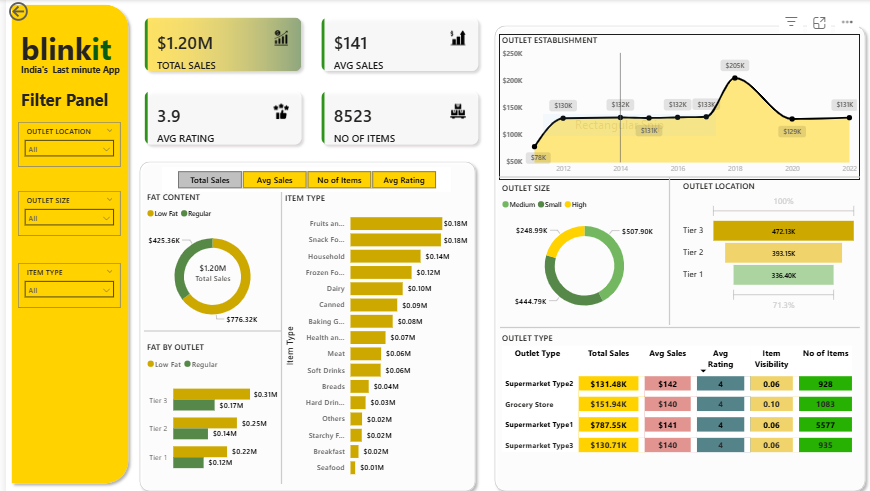

This screenshot's page, from the dashboard's own definition file:
{"tool":"powerbi","page":{"name":"Page 1","canvas":[1400,800],"ordinal":0},"visuals":[{"type":"shape","box":[0,0,205.6,787.1],"z":0},{"type":"textbox","box":[19.3,99.6,186.3,38.6],"z":1000},{"type":"textbox","box":[19.3,41.8,165.5,77.1],"z":2000},{"type":"actionButton","box":[0,0,100,40],"z":3000},{"type":"cardVisual","fields":{"Data":["Blinkit.Total Sales","Blinkit.Avg Sales","Blinkit.Avg Rating","Blinkit.No of Items"]},"box":[205.6,12.9,570.3,239.4],"z":4000},{"type":"shape","box":[205.6,252.2,557.4,547.8],"z":5000},{"type":"donutChart","title":"FAT CONTENT","fields":{"Y":["Blinkit.Total Sales"],"Category":["Blinkit.Item Fat Content"]},"box":[221.7,308.4,220.1,230],"z":6000},{"type":"slicer","fields":{"Values":["Metrics.Metrics"]},"box":[250.6,269.9,464.3,40.2],"z":7000},{"type":"cardVisual","fields":{"Data":["Blinkit.Total Sales"]},"box":[257,400,151,78.7],"z":8000},{"type":"clusteredBarChart","title":"FAT BY OUTLET","fields":{"Y":["Blinkit.Total Sales"],"Category":["Blinkit.Outlet Location Type"],"Series":["Blinkit.Item Fat Content"]},"box":[221.7,549.4,220.1,229.7],"z":9000},{"type":"shape","box":[221.7,523.7,220.1,19.3],"z":10000},{"type":"shape","box":[420.9,310,43.4,469.1],"z":11000},{"type":"barChart","title":"ITEM TYPE","fields":{"Y":["Blinkit.Total Sales"],"Category":["Blinkit.Item Type"]},"box":[443.4,310,303.6,469.1],"z":12000},{"type":"shape","box":[775.9,33.7,613.7,766.3],"z":13000},{"type":"lineChart","title":"OUTLET ESTABLISHMENT","fields":{"Category":["Blinkit.Outlet Establishment Year"],"Y":["Blinkit.Total Sales"]},"box":[792,56.2,579.9,234.5],"z":14000},{"type":"shape","box":[792,281.1,579.9,9.6],"z":15000},{"type":"donutChart","title":"OUTLET SIZE","fields":{"Y":["Blinkit.Total Sales"],"Category":["Blinkit.Outlet Size"]},"box":[792,294,274.7,224.9],"z":16000},{"type":"funnel","title":"OUTLET  LOCATION","fields":{"Y":["Sum(Blinkit.Sales)"],"Category":["Blinkit.Outlet Location Type"]},"box":[1082.7,290.8,289.2,216.9],"z":17000},{"type":"shape","box":[997.6,285.9,136.5,237.8],"z":18000},{"type":"shape","box":[793.6,517.3,578.3,20.9],"z":19000},{"type":"pivotTable","title":"OUTLET TYPE","fields":{"Rows":["Blinkit.Outlet Type"],"Values":["Blinkit.Total Sales","Blinkit.Avg Sales","Blinkit.Avg Rating","Avg(Blinkit.Item Visibility)","Blinkit.No of Items"]},"box":[792,534.9,579.9,244.2],"z":20000},{"type":"slicer","fields":{"Values":["Blinkit.Outlet Location Type"]},"box":[19.3,197.6,165.5,72.3],"z":21000},{"type":"slicer","fields":{"Values":["Blinkit.Outlet Size"]},"box":[19.3,308.4,165.5,72.3],"z":22000},{"type":"slicer","fields":{"Values":["Blinkit.Item Type"]},"box":[19.3,424.1,165.5,72.3],"z":23000},{"type":"textbox","box":[19.3,138.2,165.5,49.8],"z":24000}]}

Visuals, with their boxes on the page's 1400x800 design canvas (x1, y1, x2, y2). These are canvas units, not pixel positions in the 870x491 screenshot, which may show the page scaled, cropped or inside an application window:
shape: [0,0,206,787]
textbox: [19,100,206,138]
textbox: [19,42,185,119]
actionButton: [0,0,100,40]
cardVisual - Blinkit.Total Sales x Blinkit.Avg Sales: [206,13,776,252]
shape: [206,252,763,800]
"FAT CONTENT" donutChart: [222,308,442,538]
slicer - Metrics.Metrics: [251,270,715,310]
cardVisual - Blinkit.Total Sales: [257,400,408,479]
"FAT BY OUTLET" clusteredBarChart: [222,549,442,779]
shape: [222,524,442,543]
shape: [421,310,464,779]
"ITEM TYPE" barChart: [443,310,747,779]
shape: [776,34,1390,800]
"OUTLET ESTABLISHMENT" lineChart: [792,56,1372,291]
shape: [792,281,1372,291]
"OUTLET SIZE" donutChart: [792,294,1067,519]
"OUTLET  LOCATION" funnel: [1083,291,1372,508]
shape: [998,286,1134,524]
shape: [794,517,1372,538]
"OUTLET TYPE" pivotTable: [792,535,1372,779]
slicer - Blinkit.Outlet Location Type: [19,198,185,270]
slicer - Blinkit.Outlet Size: [19,308,185,381]
slicer - Blinkit.Item Type: [19,424,185,496]
textbox: [19,138,185,188]
